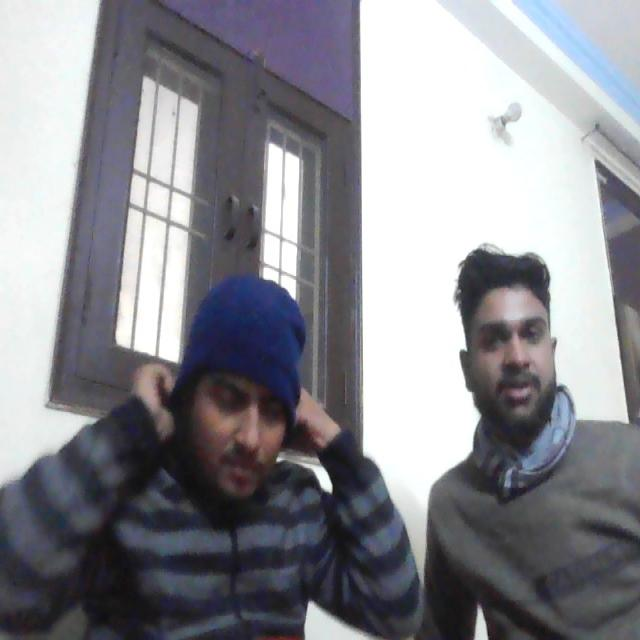real: (178, 292, 300, 523), (463, 241, 563, 431)
